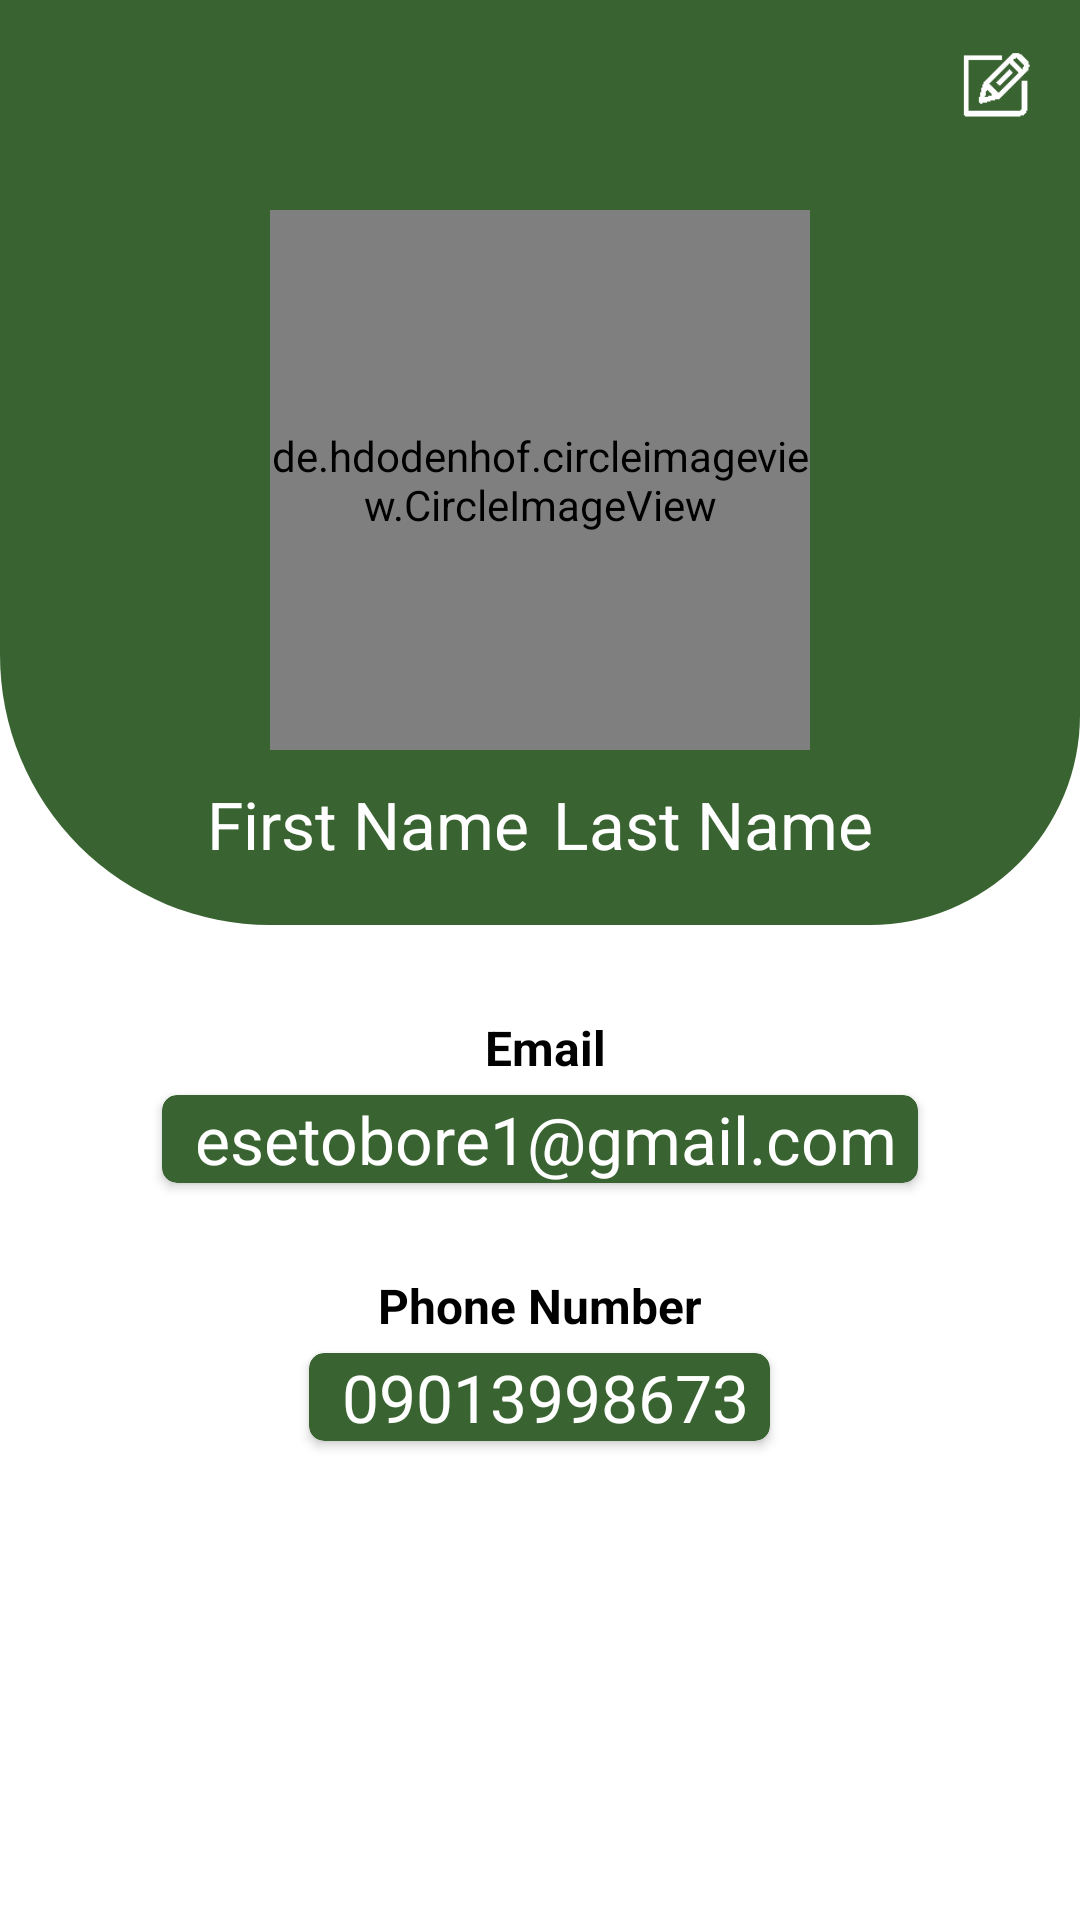

Where icons sit on this 1080*1920 app screen, as (x1, y1, x2, y2):
edit: (963, 53, 1030, 117)
